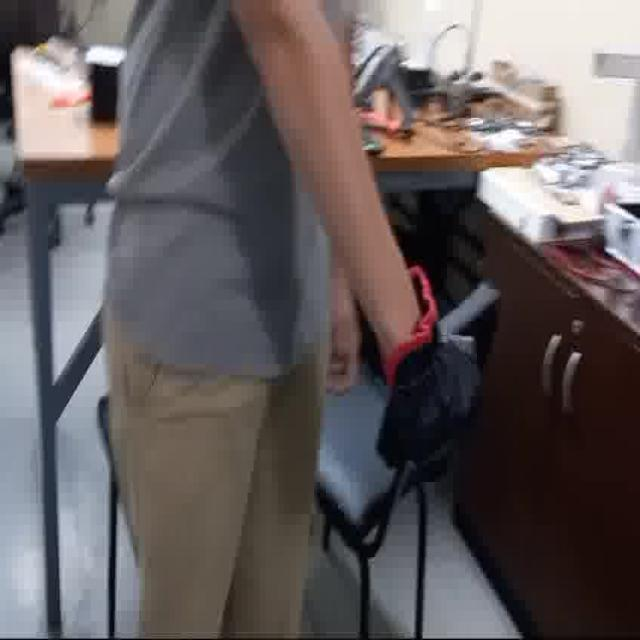Gloves: (367, 256, 485, 474)
